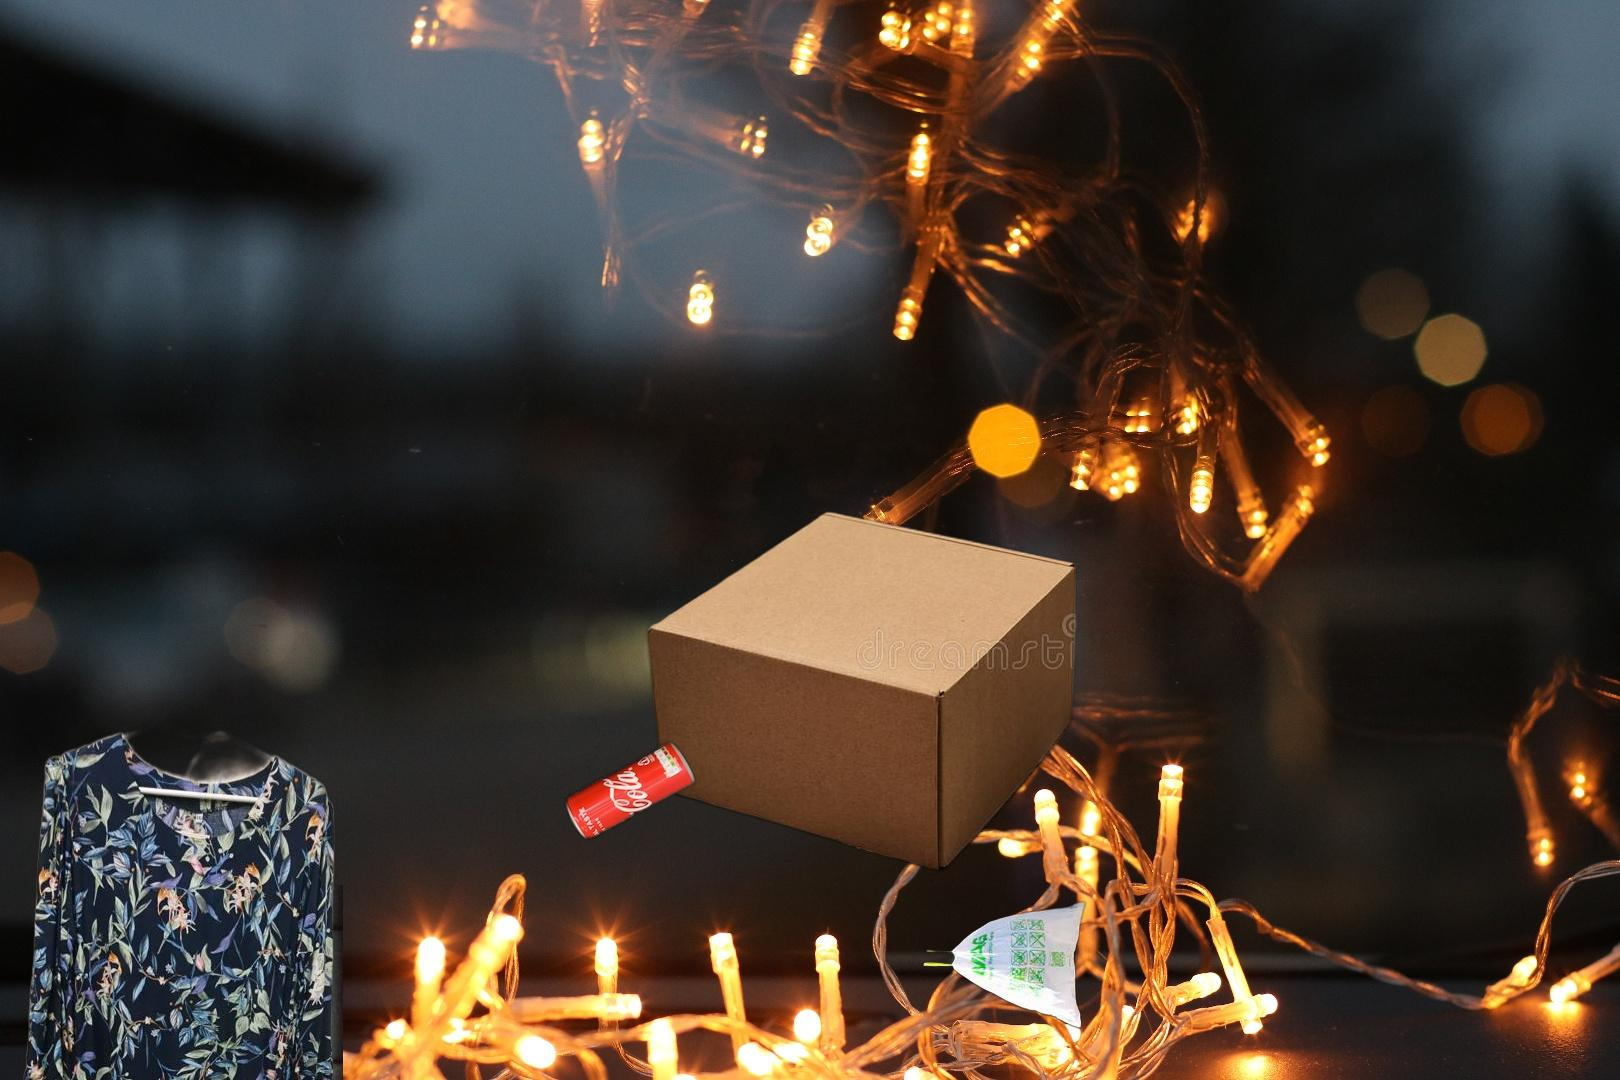clothes: (19, 718, 337, 1080)
metal-cans: (560, 736, 700, 846)
paper-bag: (40, 921, 209, 1080)
penholder: (1411, 802, 1620, 1080)
plastic-bag: (43, 885, 344, 1080), (920, 899, 1088, 1031)
trashbox-cardboard: (640, 507, 1088, 876)
